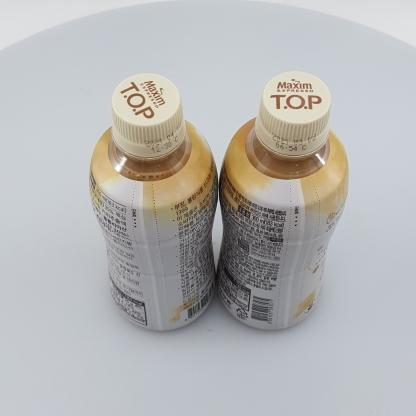--------TOP-----------: (216, 71, 349, 330), (88, 73, 219, 331)
